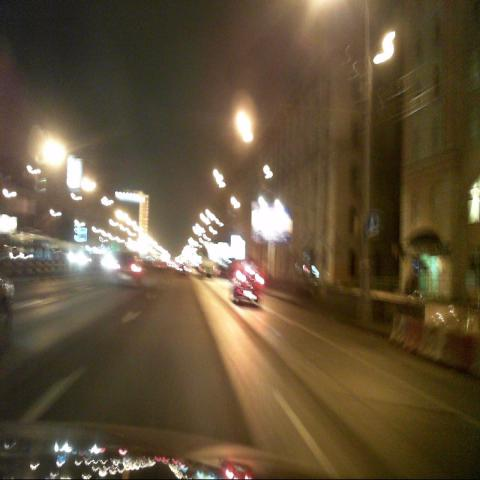6_6: (365, 212, 379, 236)
